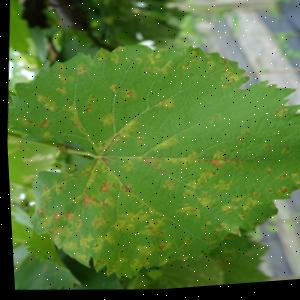Folha: (2, 27, 300, 298)
Fungo: (177, 174, 229, 222), (105, 208, 161, 242), (219, 189, 261, 224), (217, 59, 244, 94), (64, 233, 97, 260), (165, 149, 201, 173), (90, 45, 126, 66), (113, 117, 139, 145), (137, 151, 167, 174), (179, 52, 205, 76), (36, 176, 63, 194), (131, 242, 152, 259), (45, 223, 67, 238), (50, 210, 73, 223), (30, 202, 46, 219), (144, 65, 161, 79), (52, 63, 69, 75), (79, 195, 97, 205), (96, 183, 110, 195), (33, 93, 49, 103), (36, 118, 51, 128), (53, 86, 67, 96), (206, 161, 220, 170), (107, 84, 118, 95), (59, 212, 73, 220), (49, 212, 61, 221), (82, 104, 92, 113), (154, 245, 164, 253), (212, 114, 222, 122), (276, 190, 285, 198), (125, 91, 135, 98), (120, 185, 130, 192), (274, 111, 284, 118), (279, 151, 288, 158), (261, 147, 269, 154), (160, 103, 166, 107)
